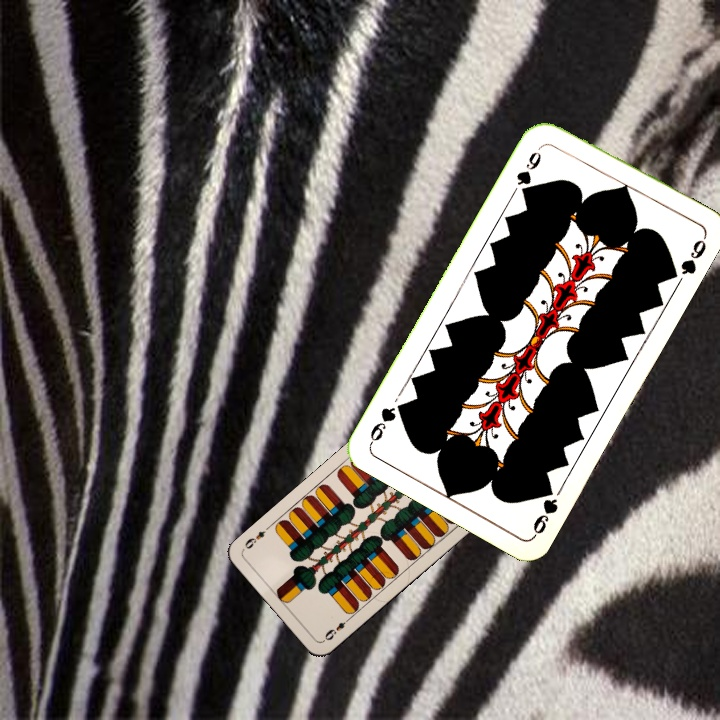E9: (320, 613, 354, 643)
G9: (528, 480, 561, 539), (512, 141, 546, 198)
